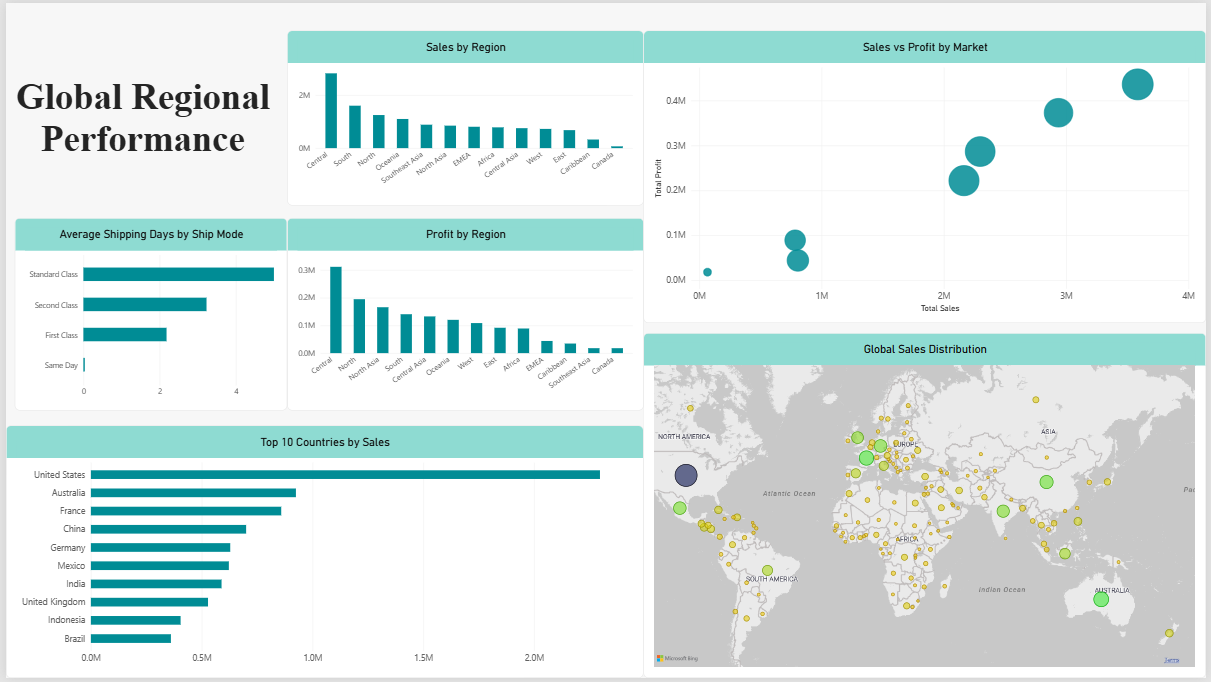

The page's visual inventory and layout, read from the dashboard file:
{"tool":"powerbi","page":{"name":"Regional Analysis","canvas":[1920,1080],"ordinal":1},"visuals":[{"type":"clusteredColumnChart","title":"Sales by Region","fields":{"Category":["SalesData.Region"],"Y":["SalesData.Total Sales"]},"box":[450,44,570,280],"z":0},{"type":"clusteredColumnChart","title":"Profit by Region","fields":{"Category":["SalesData.Region"],"Y":["SalesData.Total Profit"]},"box":[450,344,570,308],"z":1},{"type":"clusteredBarChart","title":"Top 10 Countries by Sales","fields":{"Category":["SalesData.Country"],"Y":["SalesData.Total Sales"]},"box":[0,676,1020,404],"z":2},{"type":"clusteredBarChart","title":"Average Shipping Days by Ship Mode","fields":{"Category":["SalesData.Ship Mode"],"Y":["SalesData.Avg Shipping Days"]},"box":[14,344,436,308],"z":3},{"type":"map","title":"Global Sales Distribution","fields":{"Category":["SalesData.Country"],"Size":["SalesData.Total Sales"]},"box":[1020,528,900,552],"z":4},{"type":"scatterChart","title":"Sales vs Profit by Market","fields":{"X":["SalesData.Total Sales"],"Y":["SalesData.Total Profit"],"Size":["SalesData.Total Orders"],"Category":["SalesData.Market"]},"box":[1020,44,900,468],"z":5},{"type":"textbox","box":[14,116,410,280],"z":6}]}

Visuals, with their boxes in screenshot pixels (x1, y1, x2, y2), scaled from the page's 1920x1080 canvas onto the 1211x682 screenshot:
"Sales by Region" clusteredColumnChart: (left=284, top=28, right=643, bottom=205)
"Profit by Region" clusteredColumnChart: (left=284, top=217, right=643, bottom=412)
"Top 10 Countries by Sales" clusteredBarChart: (left=0, top=427, right=643, bottom=681)
"Average Shipping Days by Ship Mode" clusteredBarChart: (left=9, top=217, right=284, bottom=412)
"Global Sales Distribution" map: (left=643, top=333, right=1210, bottom=681)
"Sales vs Profit by Market" scatterChart: (left=643, top=28, right=1210, bottom=323)
textbox: (left=9, top=73, right=267, bottom=250)
